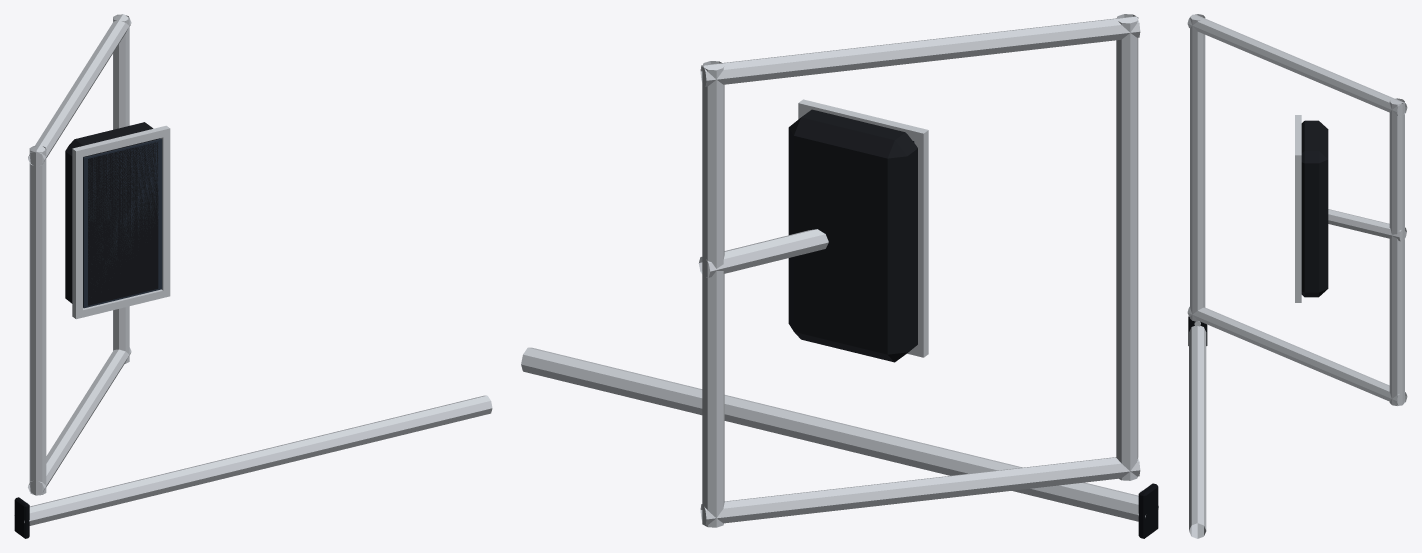
File: mirror_stay_frame.glb
3 renders of one model, left to right at view 1: azimuth 30°, elevation 25°; view 2: azimuth 150°, elevation 25°; view 3: azimuth 270°, elevation 25°, orthographic. The views are drawn at different scales.
Parts seen in each view (by area): view 1: mirror_stay_frame_chrome, mirror_stay_frame_deco_body, mirror_stay_frame_PADS_chrome, mirror_stay_frame_deco_mirror, mirror_stay_frame_PADF_deco_trim; view 2: mirror_stay_frame_chrome, mirror_stay_frame_deco_body, mirror_stay_frame_PADS_chrome, mirror_stay_frame_PADF_deco_trim; view 3: mirror_stay_frame_chrome, mirror_stay_frame_deco_body, mirror_stay_frame_PADS_chrome.
Boxes of the visible parts, x1=… form: mirror_stay_frame_chrome: x1=28, y1=14, x2=170, y2=495; mirror_stay_frame_deco_body: x1=65, y1=122, x2=159, y2=305; mirror_stay_frame_PADS_chrome: x1=14, y1=395, x2=492, y2=525; mirror_stay_frame_deco_mirror: x1=83, y1=138, x2=162, y2=308; mirror_stay_frame_PADF_deco_trim: x1=14, y1=497, x2=29, y2=538; mirror_stay_frame_chrome: x1=698, y1=14, x2=1140, y2=527; mirror_stay_frame_deco_body: x1=788, y1=109, x2=917, y2=362; mirror_stay_frame_PADS_chrome: x1=521, y1=347, x2=1158, y2=521; mirror_stay_frame_PADF_deco_trim: x1=1138, y1=483, x2=1158, y2=538; mirror_stay_frame_chrome: x1=1187, y1=14, x2=1407, y2=405; mirror_stay_frame_deco_body: x1=1301, y1=120, x2=1328, y2=297; mirror_stay_frame_PADS_chrome: x1=1189, y1=325, x2=1206, y2=538.
Bounding box in the file's own units: 1 × 0.782 × 0.463.
